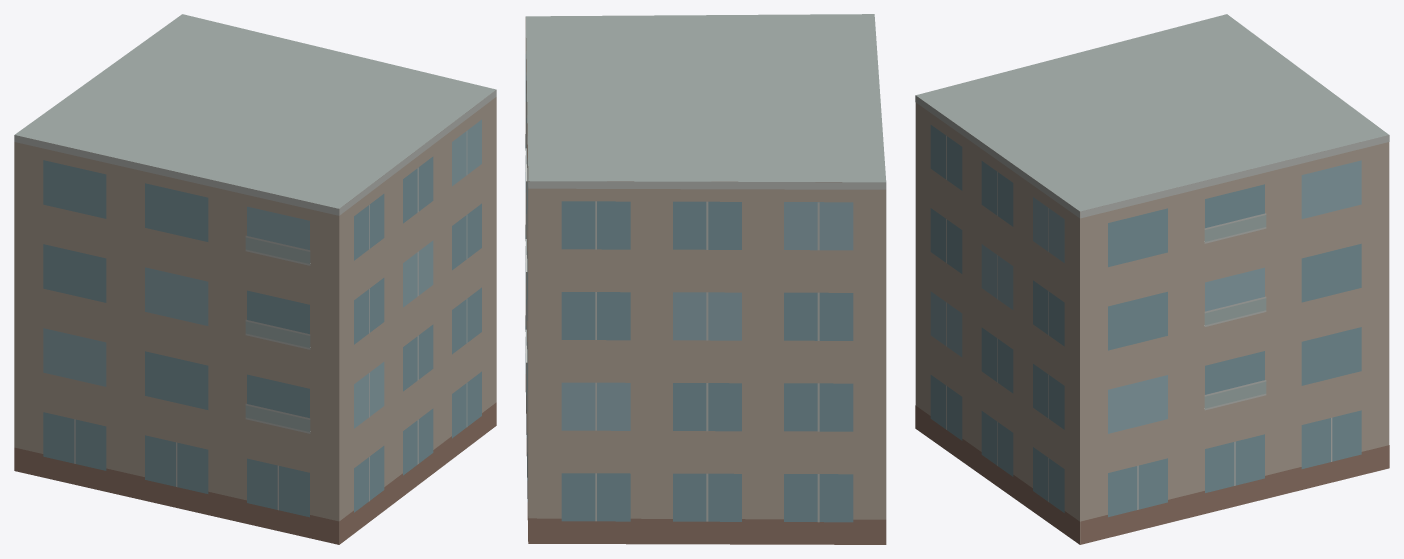
The model's file is survey-upis-32990128.glb.
3 renders of one model, left to right at view 1: azimuth 30°, elevation 25°; view 2: azimuth 150°, elevation 25°; view 3: azimuth 270°, elevation 25°, orthographic. The views are drawn at different scales.
Parts seen in each view (by area): view 1: survey-upis-32990128.tmp; view 2: survey-upis-32990128.tmp; view 3: survey-upis-32990128.tmp.
Boxes of the visible parts, x1,y1,x2,y2 form: survey-upis-32990128.tmp: [14, 14, 496, 544]; survey-upis-32990128.tmp: [525, 14, 886, 544]; survey-upis-32990128.tmp: [915, 14, 1389, 544].
Size of the model in its own units: 14.89 by 11.71 by 15.1.
